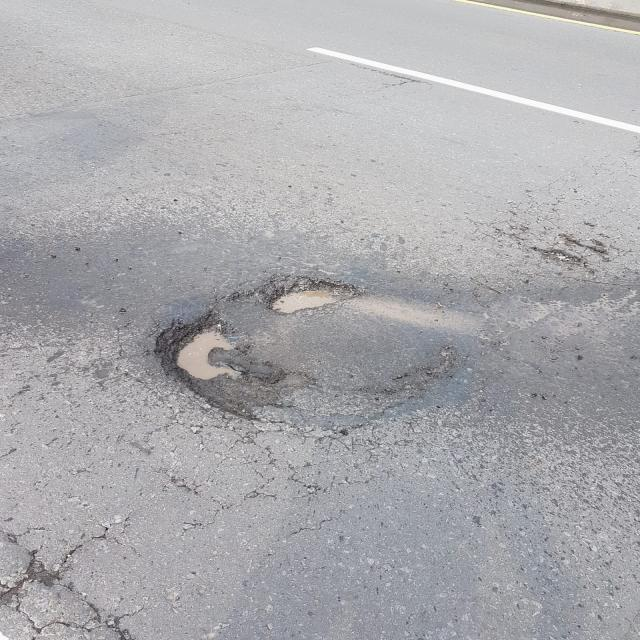Buraco: (150, 308, 319, 424), (225, 272, 368, 318)
